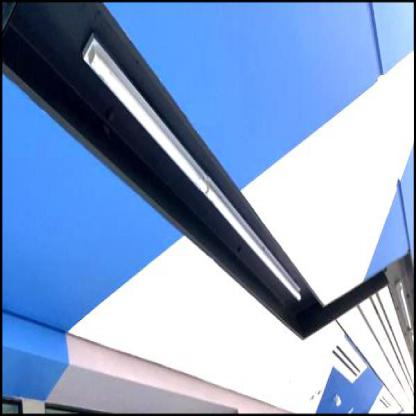light_off: (78, 34, 308, 318)
